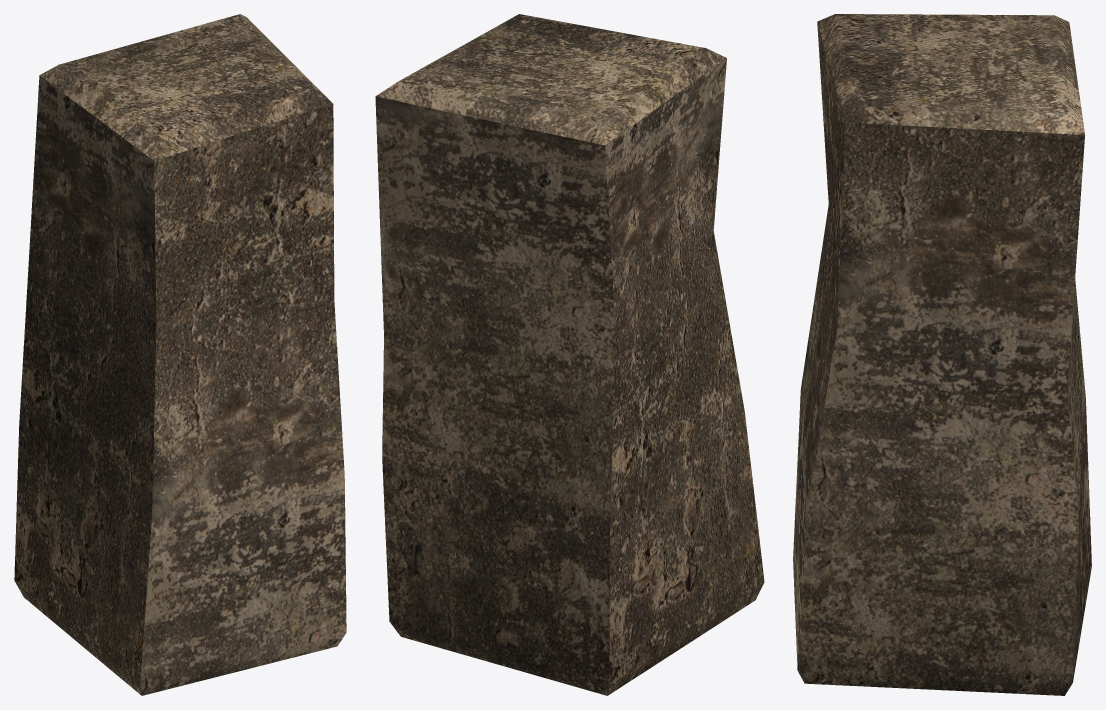
Rendered from materials_5_pillar_short_7.fbx.
The picture shows the model from 3 angles, left to right: view 1: azimuth 30°, elevation 25°; view 2: azimuth 150°, elevation 25°; view 3: azimuth 270°, elevation 25°; orthographic projection. The views are drawn at different scales.
Visible parts, largest first — view 1: materials_5_pillar_short_7; view 2: materials_5_pillar_short_7; view 3: materials_5_pillar_short_7.
Part boxes in pixels (bbox=[...]): materials_5_pillar_short_7: bbox=[14, 14, 346, 695]; materials_5_pillar_short_7: bbox=[375, 14, 764, 695]; materials_5_pillar_short_7: bbox=[793, 14, 1091, 695].
Size of the model in its own units: 33.05 by 70.38 by 32.75.
